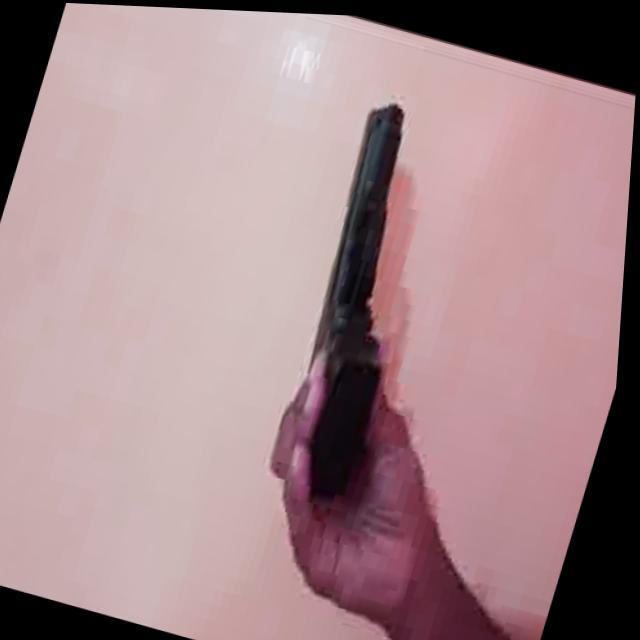weapon: (264, 88, 466, 504)
